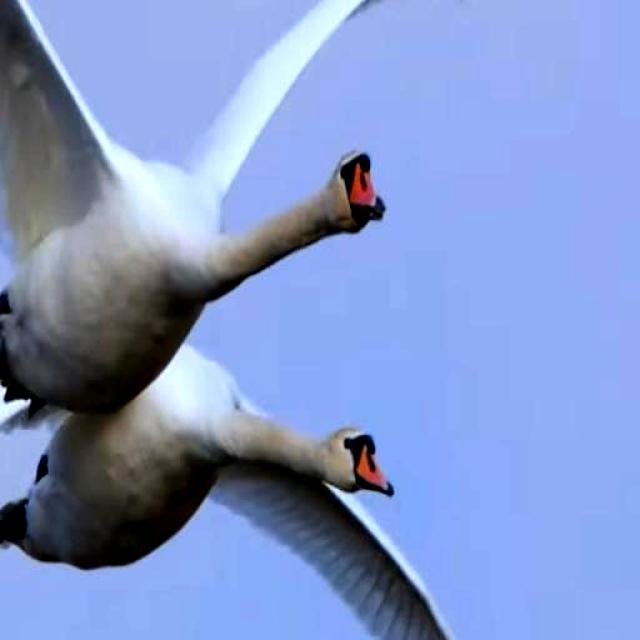airplane: (0, 0, 514, 420), (0, 369, 570, 640)
